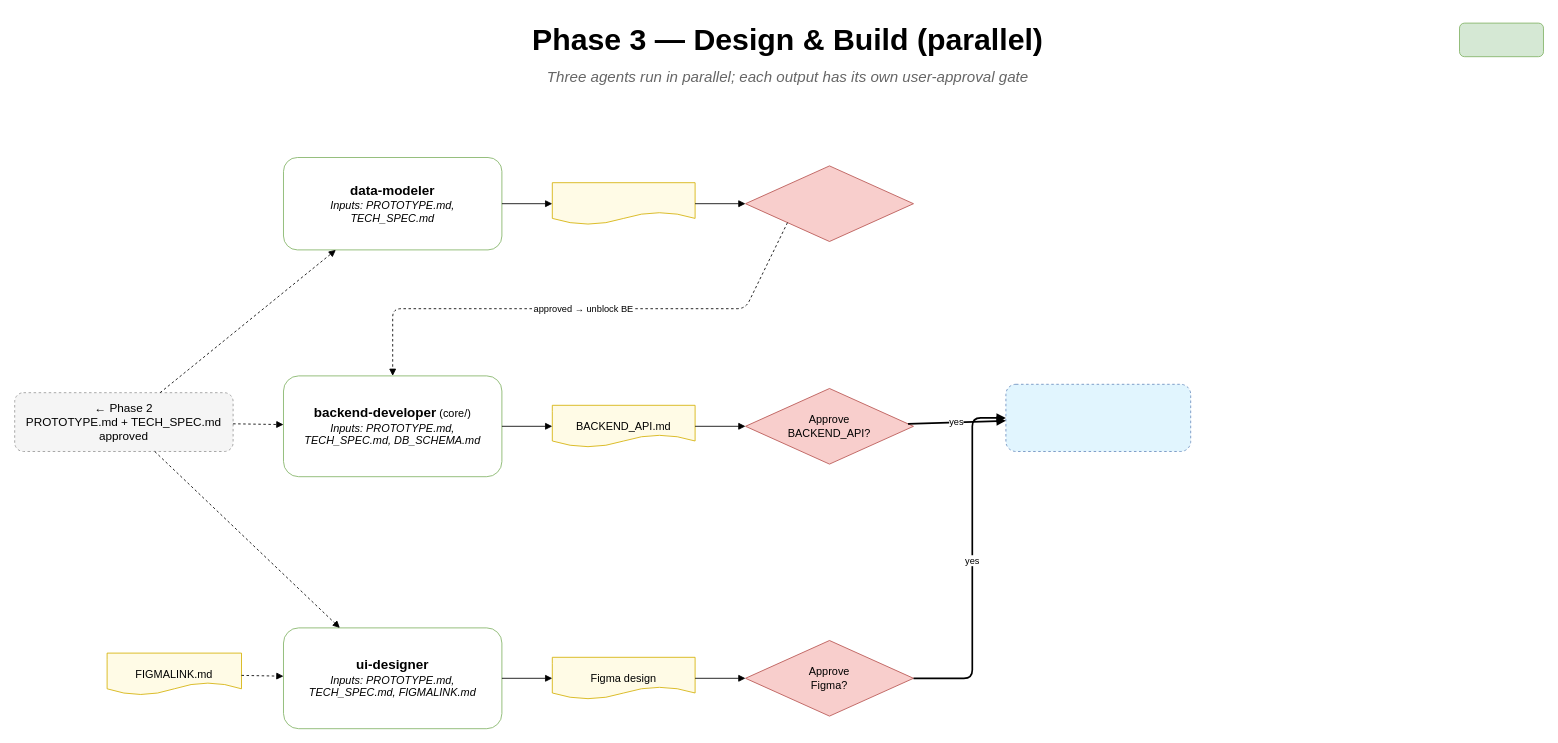
Image size: 1558x743. Some labels were removed from this diagram. The shapes that lost their labels are listed below. From the top down, each one's centre as x and y in pixels, then its label:
(1501,39): 3 of 6
(623,203): DB_SCHEMA.md
(829,203): Approve DB_SCHEMA?
(1098,417): → Phase 4 Frontend Integration
